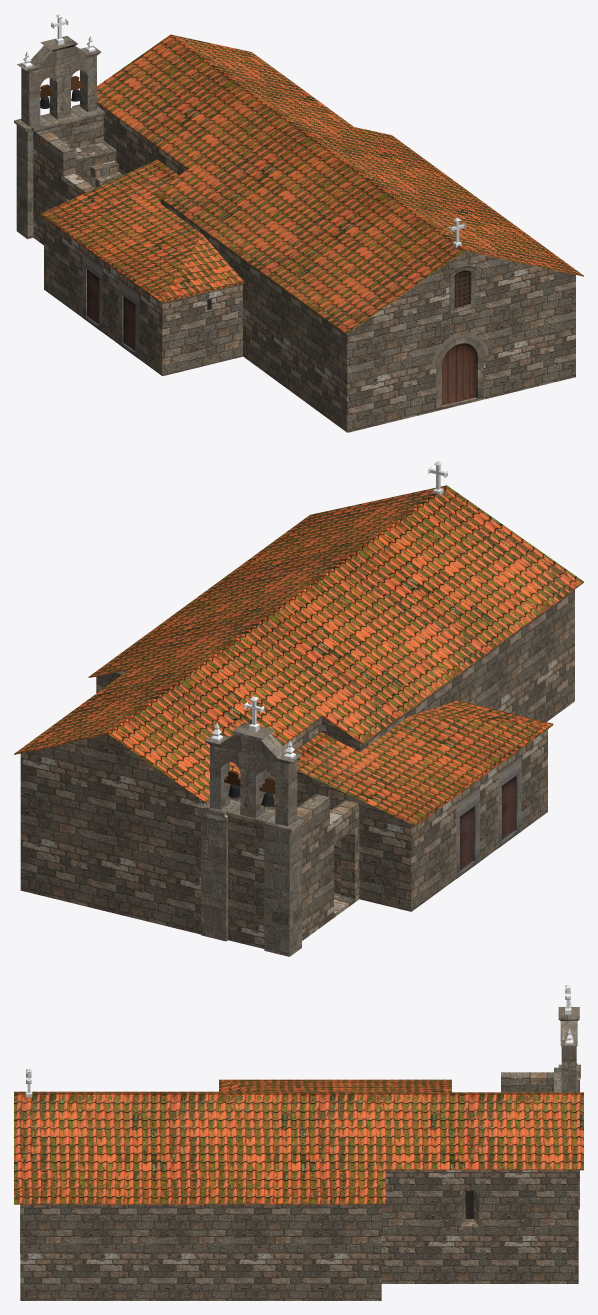
The model's file is asset.glb.
3 views of the same model, one above another, from view 1: azimuth 30°, elevation 25°; view 2: azimuth 150°, elevation 25°; view 3: azimuth 270°, elevation 25° (orthographic). The views are drawn at different scales.
Visible parts, largest first — view 1: corpo, Plane.033, Cube, porta, Cube.016, Cube.014, Cube.001, Cube.002, Cube.013; view 2: corpo, Plane.033, Cube, Cube.016, Cube.014; view 3: corpo, Cube, Plane.033.
Boxes of the visible parts, left/top/right/bottom form: corpo: left=40, top=34, right=583, bottom=432; Plane.033: left=14, top=104, right=104, bottom=245; Cube: left=17, top=14, right=101, bottom=126; porta: left=430, top=331, right=488, bottom=408; Cube.016: left=82, top=253, right=102, bottom=332; Cube.014: left=119, top=279, right=139, bottom=358; Cube.001: left=449, top=264, right=475, bottom=313; Cube.002: left=74, top=141, right=116, bottom=187; Cube.013: left=90, top=161, right=122, bottom=187; corpo: left=14, top=485, right=583, bottom=934; Plane.033: left=197, top=794, right=359, bottom=956; Cube: left=205, top=696, right=302, bottom=826; Cube.016: left=456, top=786, right=479, bottom=878; Cube.014: left=498, top=756, right=521, bottom=847; corpo: left=14, top=1079, right=583, bottom=1300; Cube: left=558, top=985, right=579, bottom=1092; Plane.033: left=501, top=1064, right=580, bottom=1209.
Bounding box in the file's own units: 13.26 × 8.47 × 21.34.
Materials: 9 (5 with a texture image).
